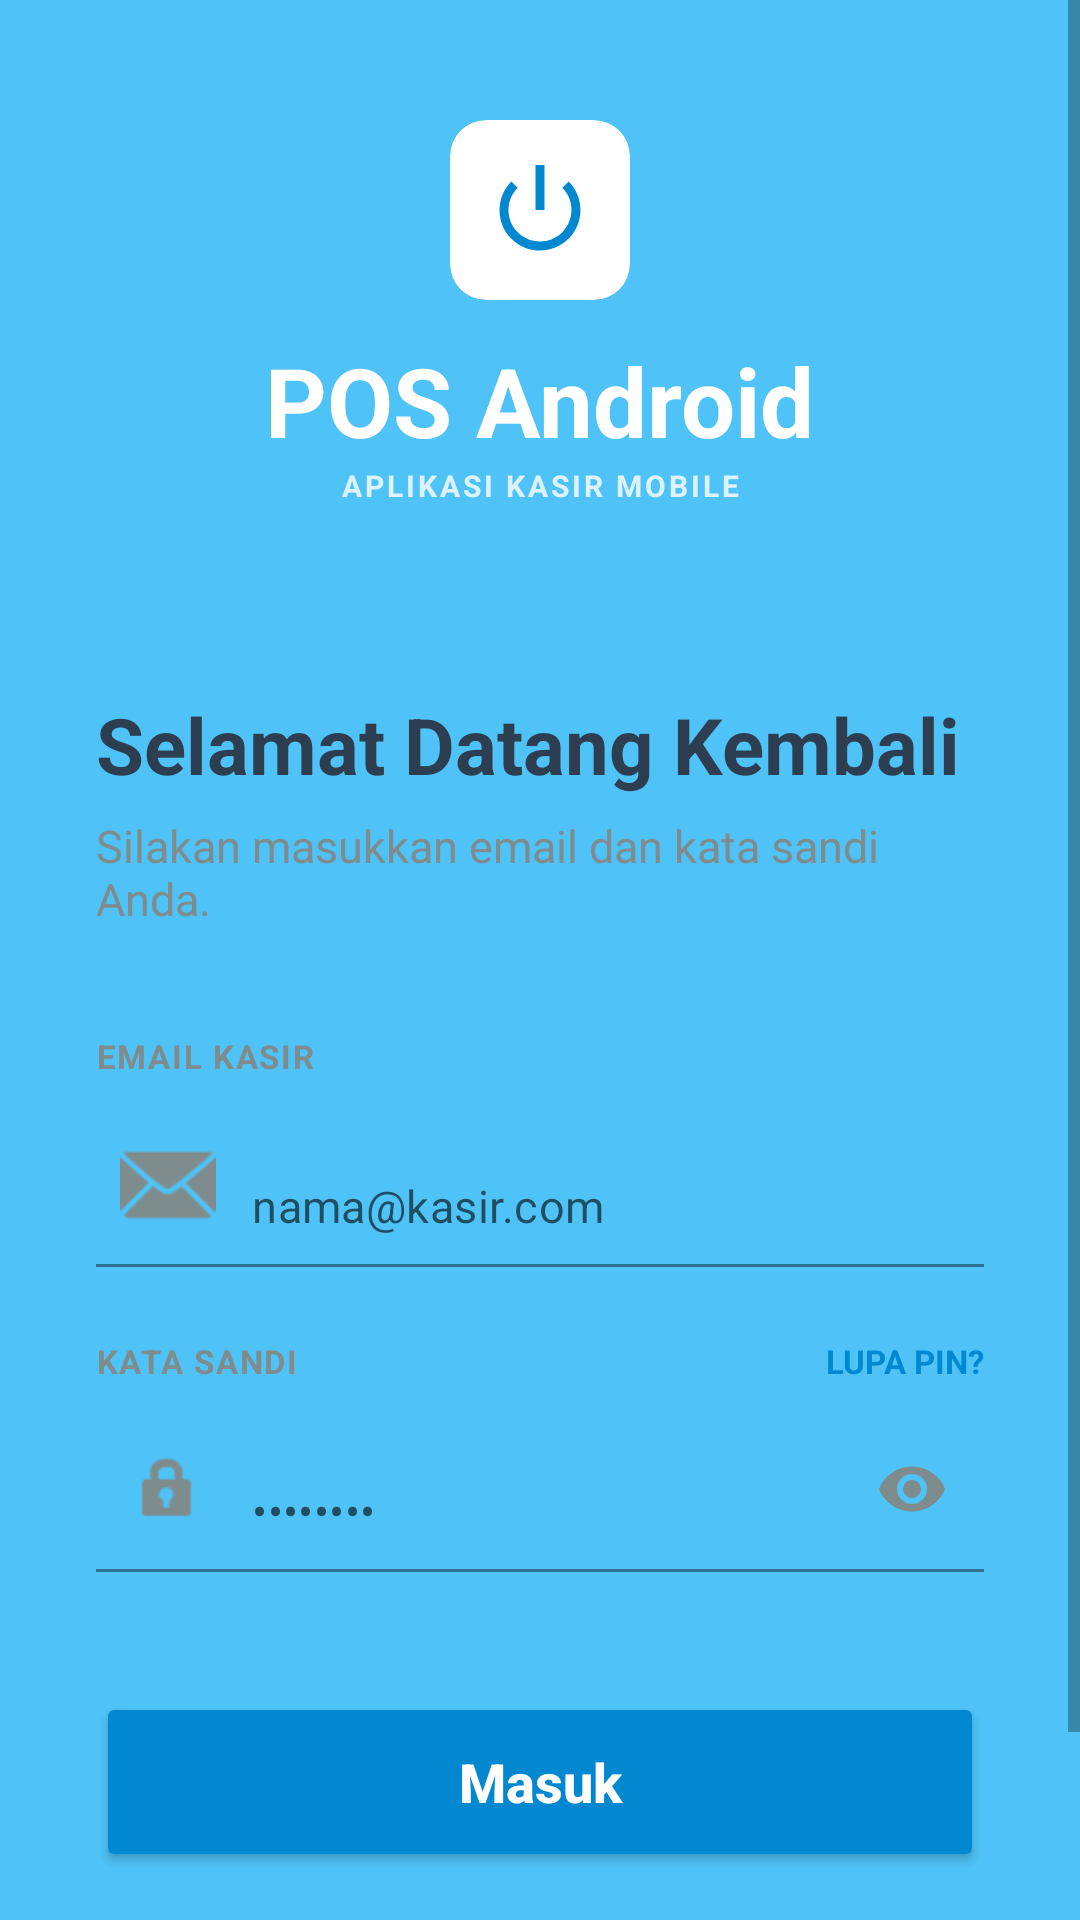

Screen size 1080px x 1920px. Icon name, then its box in pixels as (x1=x1, y1=y1, x2=x2, y2=y2):
lock power off: (x1=450, y1=120, x2=630, y2=300)
